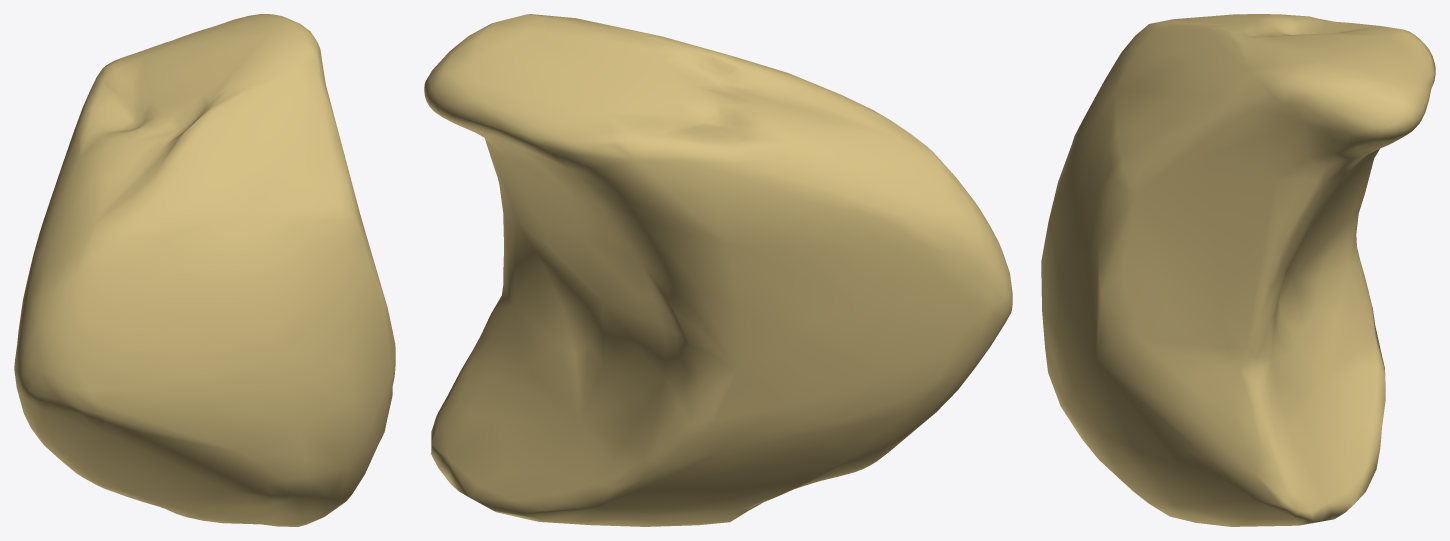
3 views of the same model, side by side, from view 1: azimuth 30°, elevation 25°; view 2: azimuth 150°, elevation 25°; view 3: azimuth 270°, elevation 25° (orthographic). The views are drawn at different scales.
Visible parts, largest first — view 1: 左侧月骨; view 2: 左侧月骨; view 3: 左侧月骨.
Boxes of the visible parts, x1,y1,x2,y2 form: 左侧月骨: (14,14,395,526); 左侧月骨: (424,14,1012,526); 左侧月骨: (1041,14,1435,526).
Size of the model in its own units: 0.0252 by 0.0245 by 0.0188.
